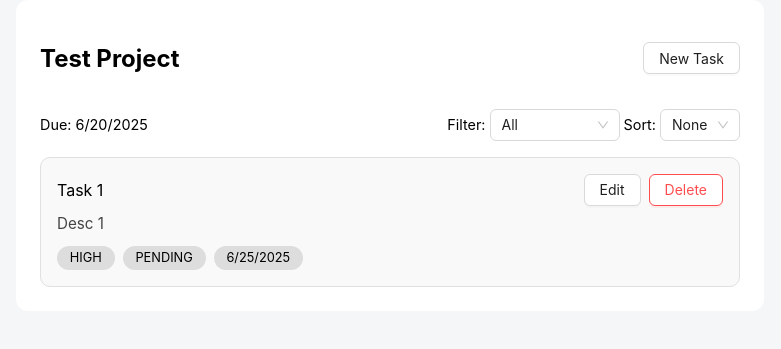
Test: TaskCard - Integration › can open task in edit mode
Click the button "Edit". click: (612, 190)
box: [584,174,641,206]
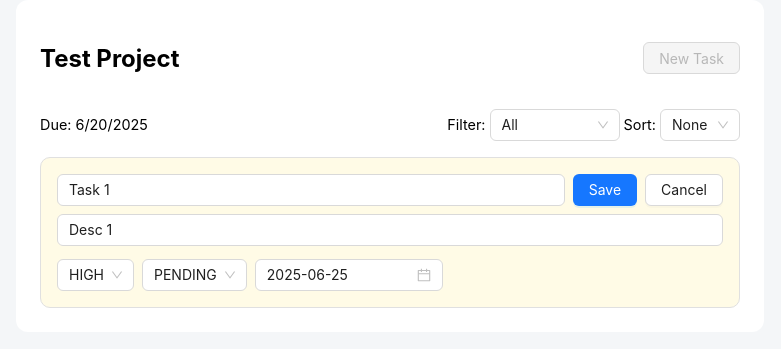
Result: the 1st field showing "Task 1" is shown at [57,174,565,206]
